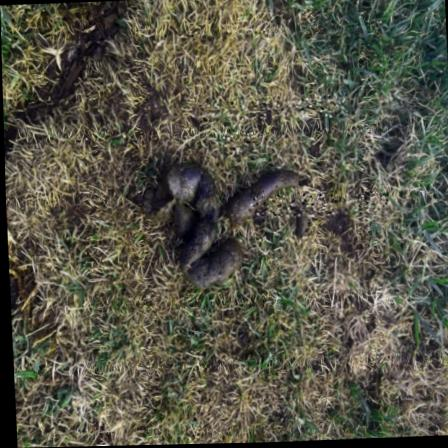dog-poop: (144, 145, 305, 290)
